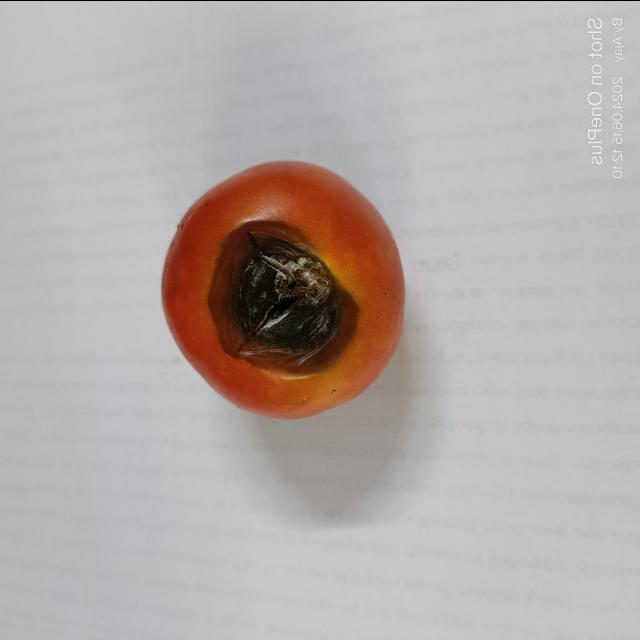Anthrocnose: (210, 216, 358, 374)
